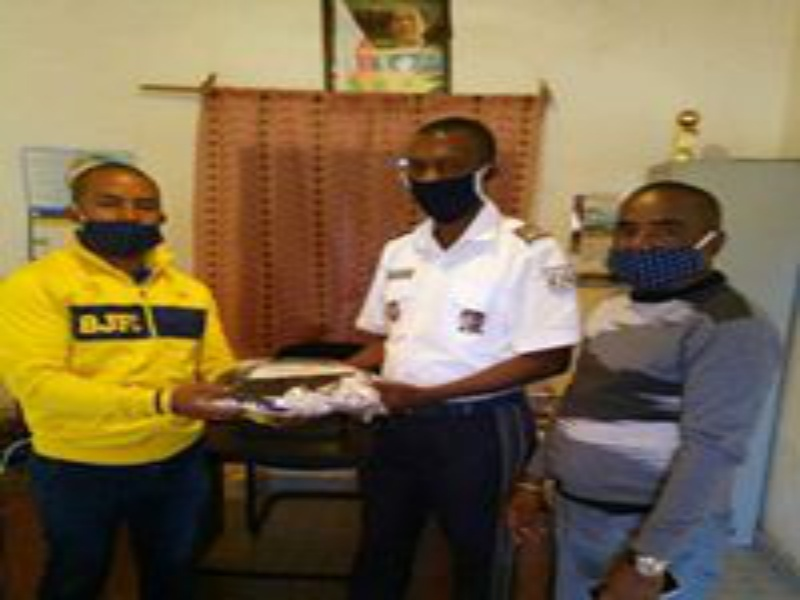ManaoArotava: (601, 178, 712, 303), (68, 158, 178, 278), (396, 115, 496, 222)
